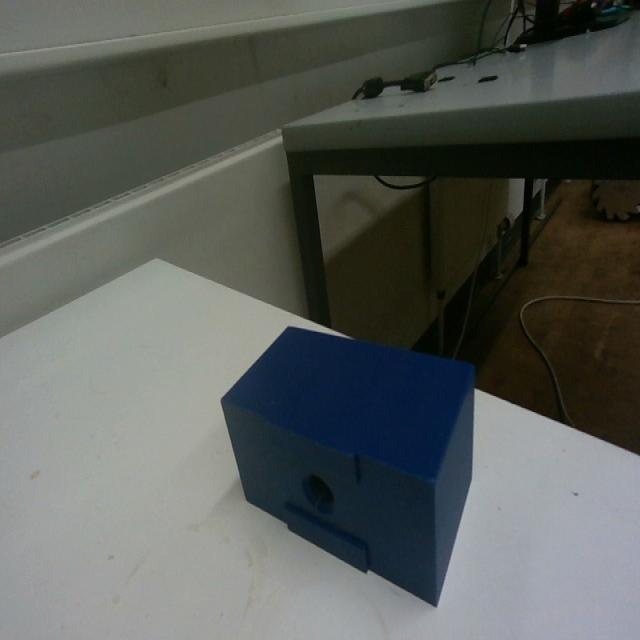Blue Cuboid: (218, 318, 478, 606)
